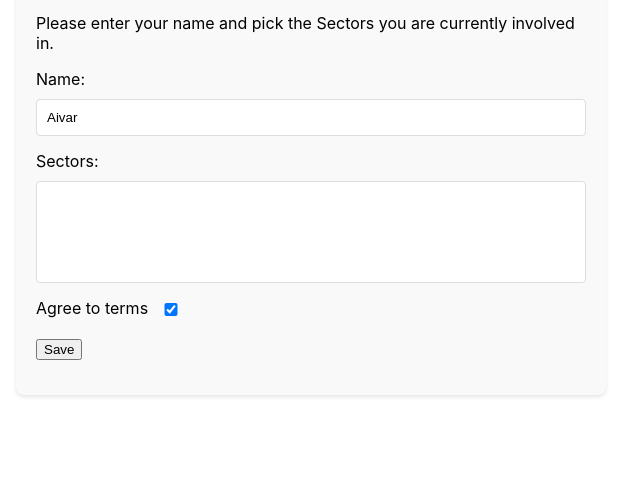
Test case: invalid name will show an error
Replace the text in the field labelled "Name:" with "123": coordinates (311, 118) x1=36 y1=99 x2=586 y2=136
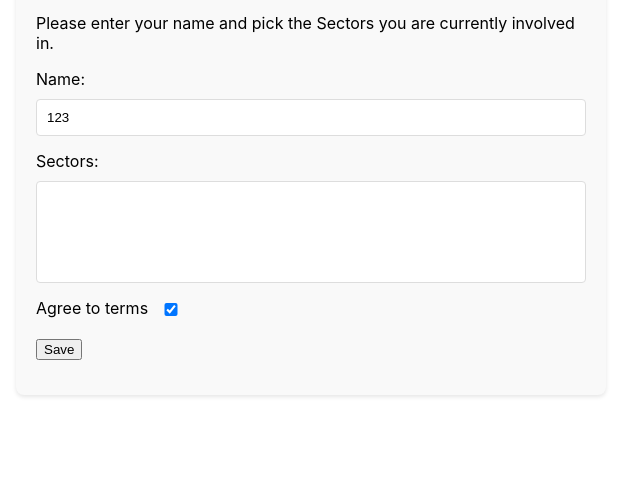
Click the button "Save": coordinates (59, 350) x1=36 y1=339 x2=82 y2=360
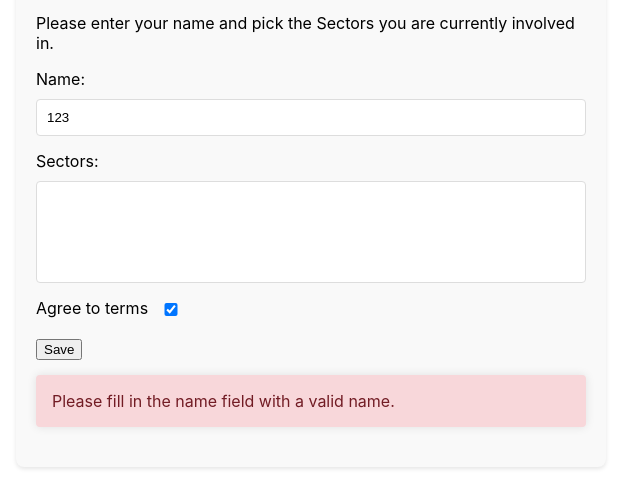
Result: the message reads "Please fill in the name field with a valid name." at x1=52 y1=391 x2=395 y2=411
